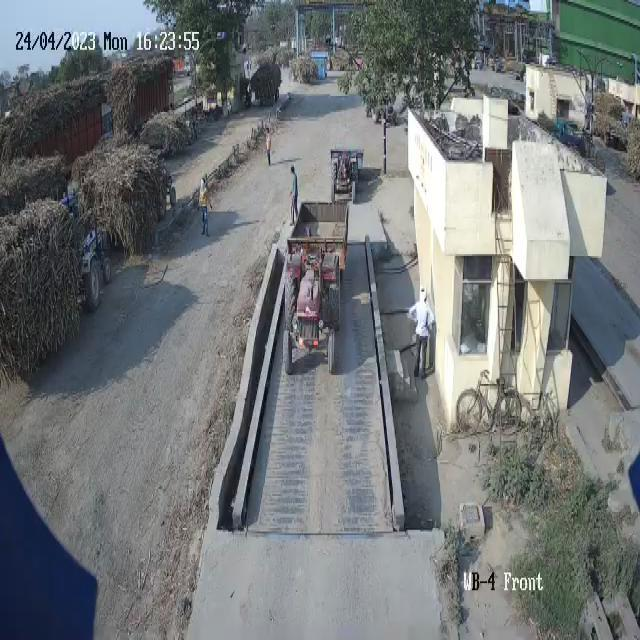Tratores - v5 YOLO V8L 2024-11-13: (278, 242, 346, 393), (324, 148, 358, 206)
